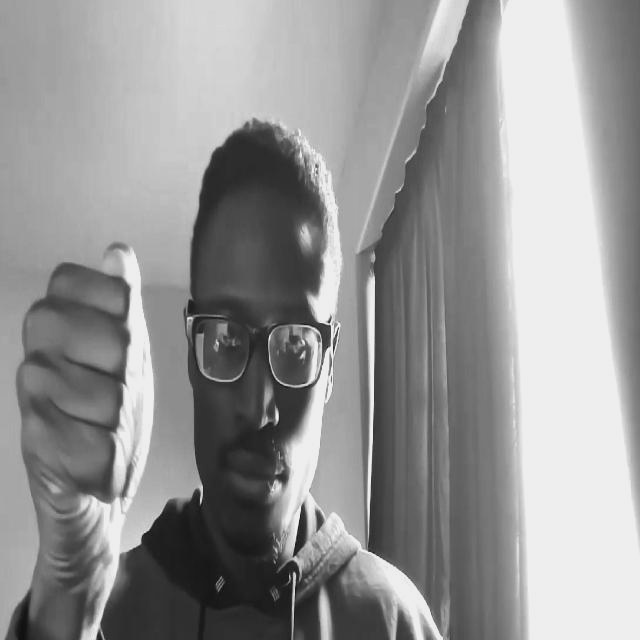Rock: (16, 241, 157, 580)
